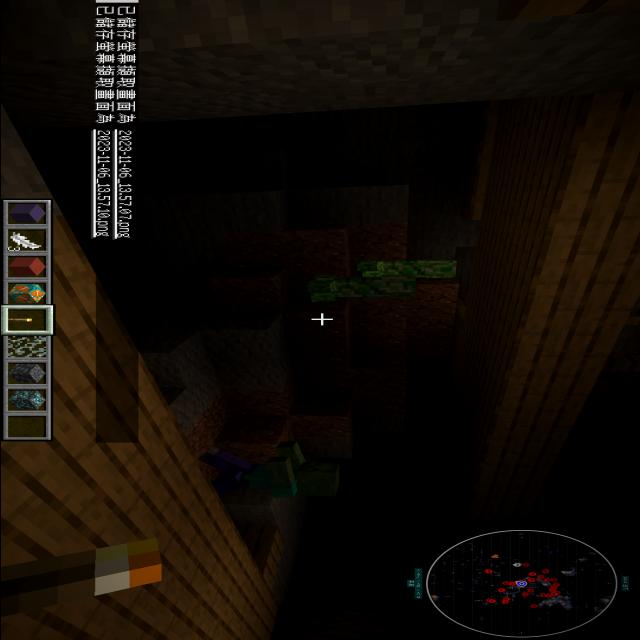Creeper: (295, 272, 427, 312), (348, 248, 466, 288)
Zombie: (190, 428, 358, 514)
